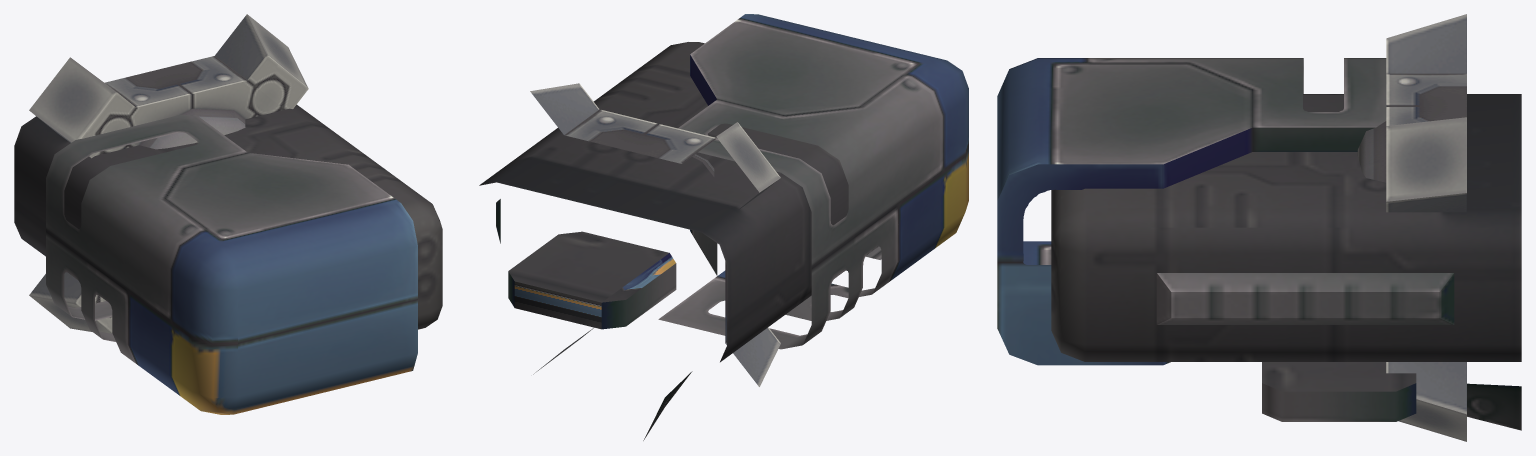
File: model_alchemystation.glb
The picture shows the model from 3 angles, left to right: view 1: azimuth 30°, elevation 25°; view 2: azimuth 150°, elevation 25°; view 3: azimuth 270°, elevation 25°; orthographic projection. The views are drawn at different scales.
Parts seen in each view (by area): view 1: energy.model_alchemystation-MeshNodes["vendingmachine_01"], energy.turret_01_base-Mesh[0]; view 2: energy.model_alchemystation-MeshNodes["vendingmachine_01"], energy.turret_01_base-Mesh[0]; view 3: energy.model_alchemystation-MeshNodes["vendingmachine_01"], energy.turret_01_base-Mesh[0].
Boxes of the visible parts, x1,y1,x2,y2 form: energy.model_alchemystation-MeshNodes["vendingmachine_01"]: [14, 104, 442, 414]; energy.turret_01_base-Mesh[0]: [29, 14, 308, 333]; energy.model_alchemystation-MeshNodes["vendingmachine_01"]: [479, 14, 968, 440]; energy.turret_01_base-Mesh[0]: [530, 83, 780, 386]; energy.model_alchemystation-MeshNodes["vendingmachine_01"]: [997, 58, 1521, 430]; energy.turret_01_base-Mesh[0]: [1357, 14, 1466, 441].
Bounding box in the file's own units: 1.64 × 1.57 × 2.18.
3 materials, 3 textured.
